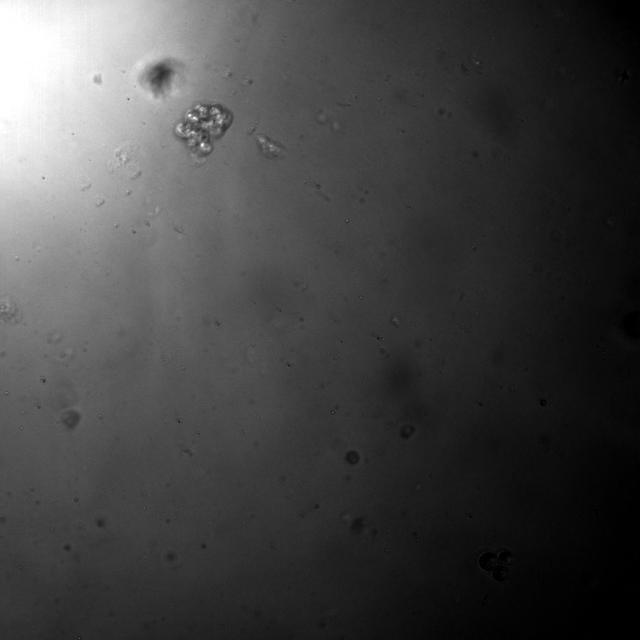organoid: (174, 103, 232, 167), (132, 56, 186, 101), (256, 134, 284, 158)
